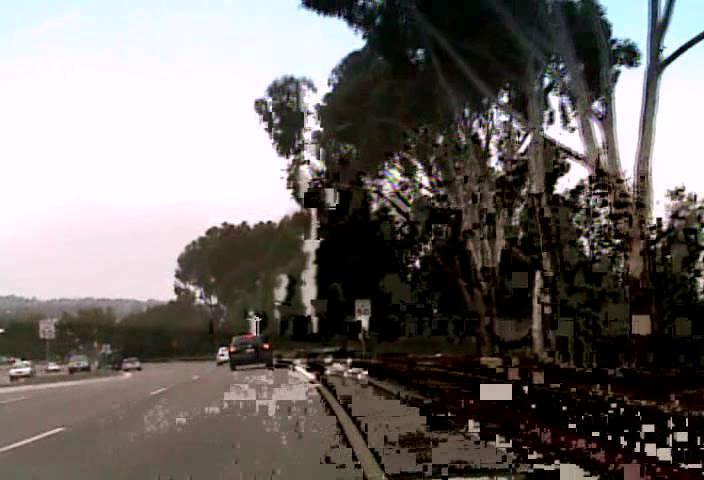speedLimitUrdbl: (38, 317, 56, 340)
